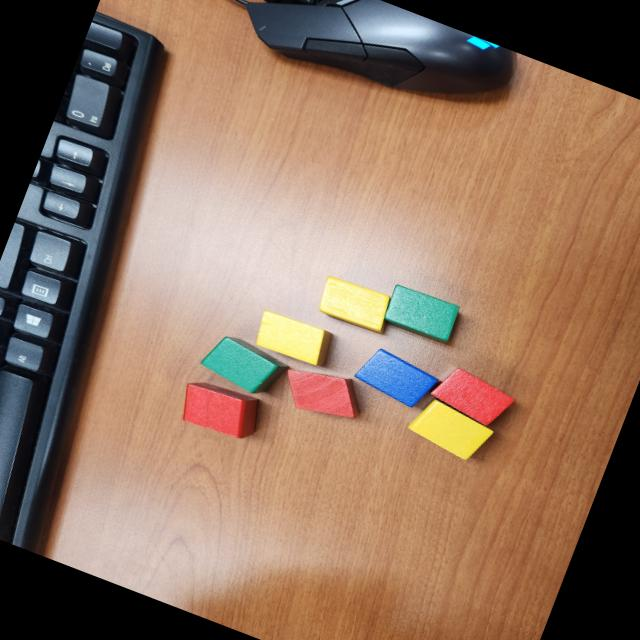blue: (349, 343, 443, 414)
green: (194, 327, 296, 404), (376, 280, 464, 347)
red: (276, 356, 371, 431), (425, 362, 520, 436), (173, 374, 265, 448)
yellow: (402, 393, 499, 468), (250, 306, 336, 370), (312, 271, 395, 337)
